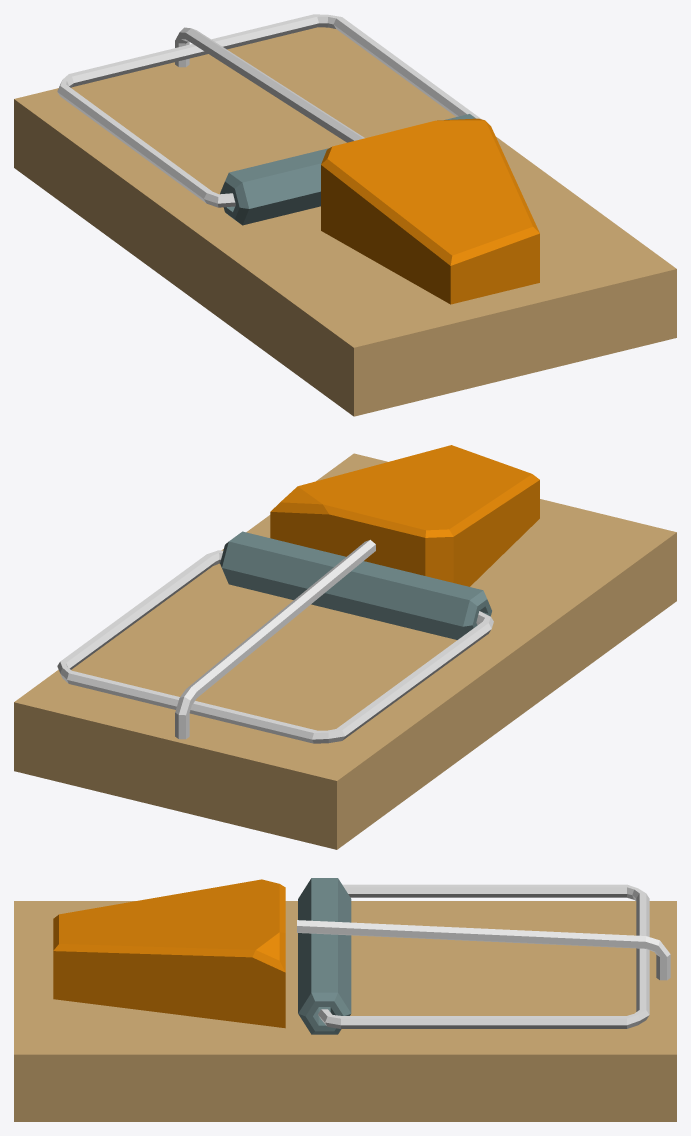
Rendered from mouseTrap.fbx.
3 renders of one model, top to bottom at view 1: azimuth 30°, elevation 25°; view 2: azimuth 150°, elevation 25°; view 3: azimuth 270°, elevation 25°, orthographic. The views are drawn at different scales.
Visible parts, largest first — view 1: Based, Cube.001, bar, spring, pin; view 2: Based, Cube.001, spring, bar, pin; view 3: Based, Cube.001, bar, spring, pin.
Boxes of the visible parts, x1,y1,x2,y2 form: Based: (14,27,676,416); Cube.001: (321,118,539,304); bar: (57,14,481,207); spring: (220,114,475,225); pin: (175,27,364,142); Based: (14,453,676,849); Cube.001: (270,445,539,586); spring: (220,531,491,639); bar: (57,550,493,743); pin: (175,539,375,739); Based: (14,901,676,1121); Cube.001: (53,879,285,1028); bar: (318,884,649,1028); spring: (298,878,351,1034); pin: (297,920,670,980).
Size of the model in its own units: 200 by 364 by 84.76.
